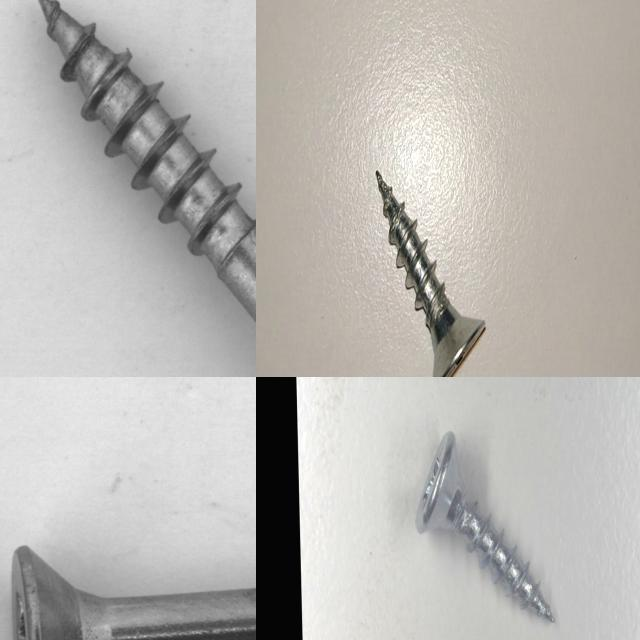Screw: (6, 0, 256, 377), (0, 514, 256, 640), (416, 430, 555, 621), (376, 170, 485, 377)
